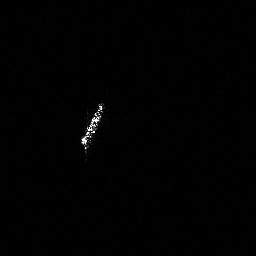ship: (77, 99, 107, 158)
